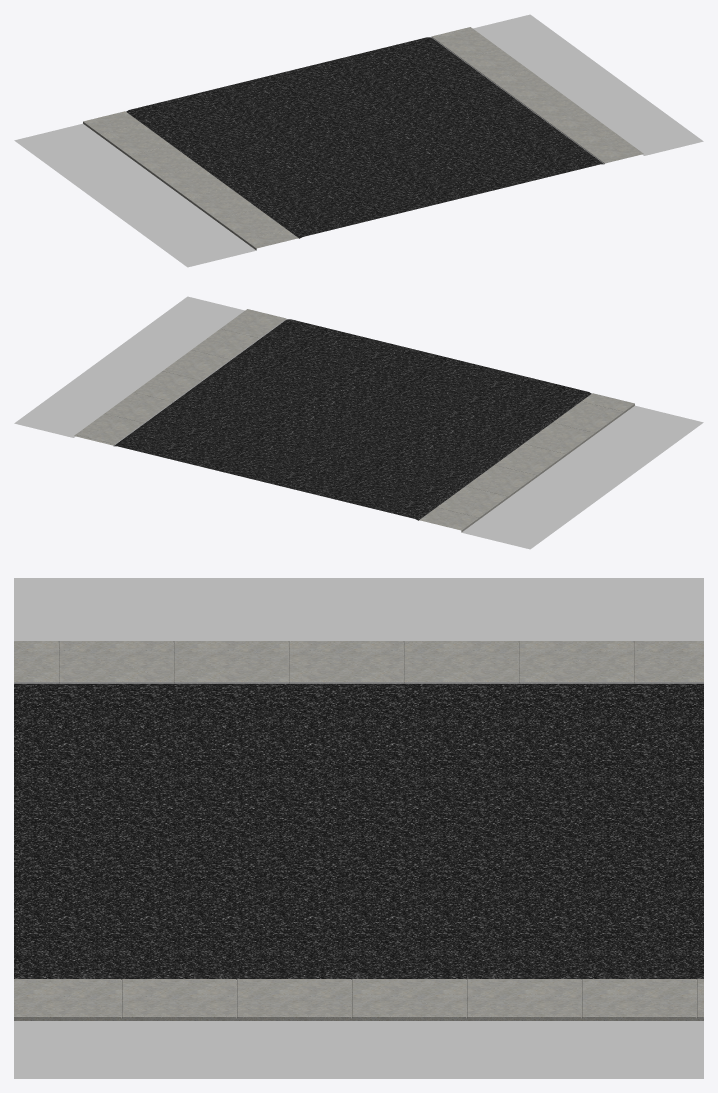
3 renders of one model, top to bottom at view 1: azimuth 30°, elevation 25°; view 2: azimuth 150°, elevation 25°; view 3: azimuth 270°, elevation 25°, orthographic. The views are drawn at different scales.
Parts seen in each view (by area): view 1: Mesh1_Asphalt_0, Mesh1_Grass_0, Mesh1_Concrete_0; view 2: Mesh1_Asphalt_0, Mesh1_Grass_0, Mesh1_Concrete_0; view 3: Mesh1_Asphalt_0, Mesh1_Grass_0, Mesh1_Concrete_0, Mesh1_DarkGrass_0.
Part boxes in pixels (x1,y1,x2,y2): Mesh1_Asphalt_0: (126,37,603,238); Mesh1_Grass_0: (14,14,703,267); Mesh1_Concrete_0: (83,27,643,250); Mesh1_Asphalt_0: (114,319,591,520); Mesh1_Grass_0: (14,296,703,549); Mesh1_Concrete_0: (74,309,634,532); Mesh1_Asphalt_0: (14,683,703,979); Mesh1_Grass_0: (14,578,703,1078); Mesh1_Concrete_0: (14,641,703,1020); Mesh1_DarkGrass_0: (14,682,703,980).
Size of the model in its own units: 1042 by 4.61 by 607.
